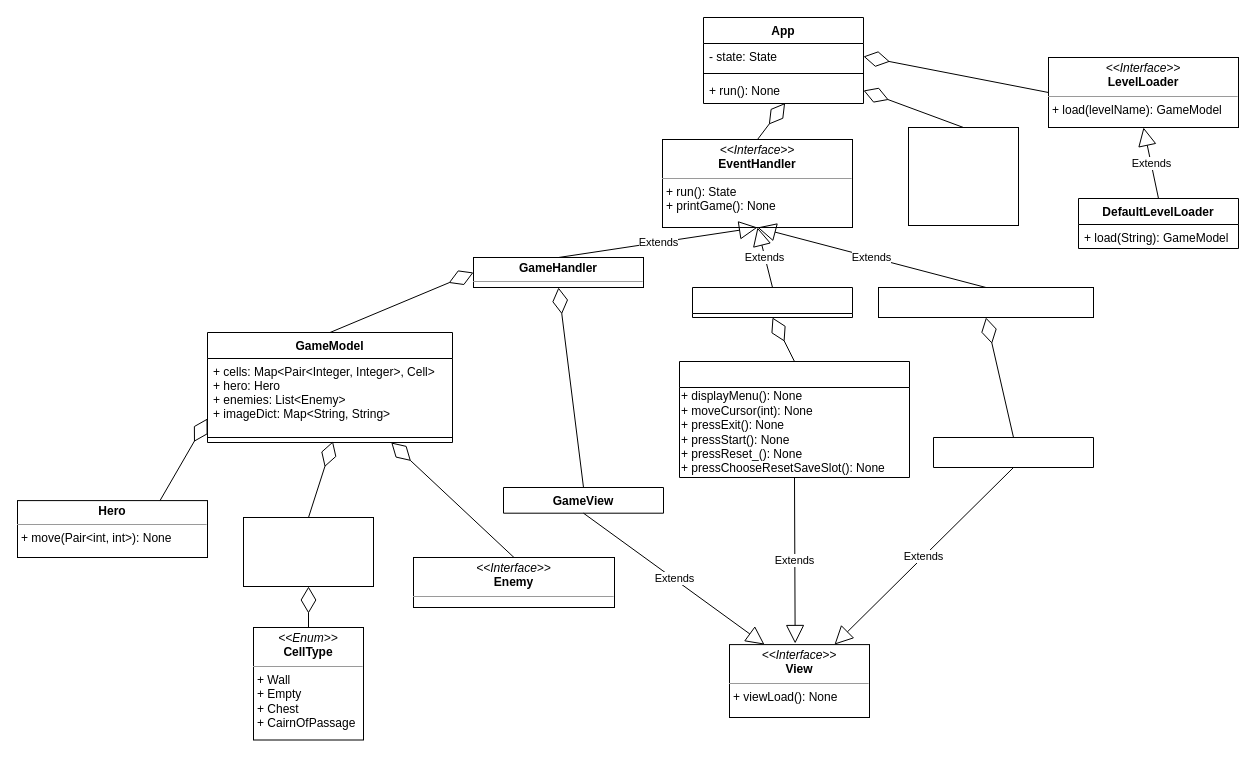
Some shapes in this 1256 by 758 pixel diagram are drawn without their labels. Here are the shapes that lost their labels. From the top down, the centre of each, then its label:
At point (963, 176): "<<Enum>> State + Inventory + Menu + Game".
At point (772, 302): "SystemHandler".
At point (986, 302): "InventoryHandler".
At point (794, 419): "SystemView".
At point (1013, 452): "InventoryView".
At point (308, 551): "Cell + imageKey: String + cellType: CellType".
